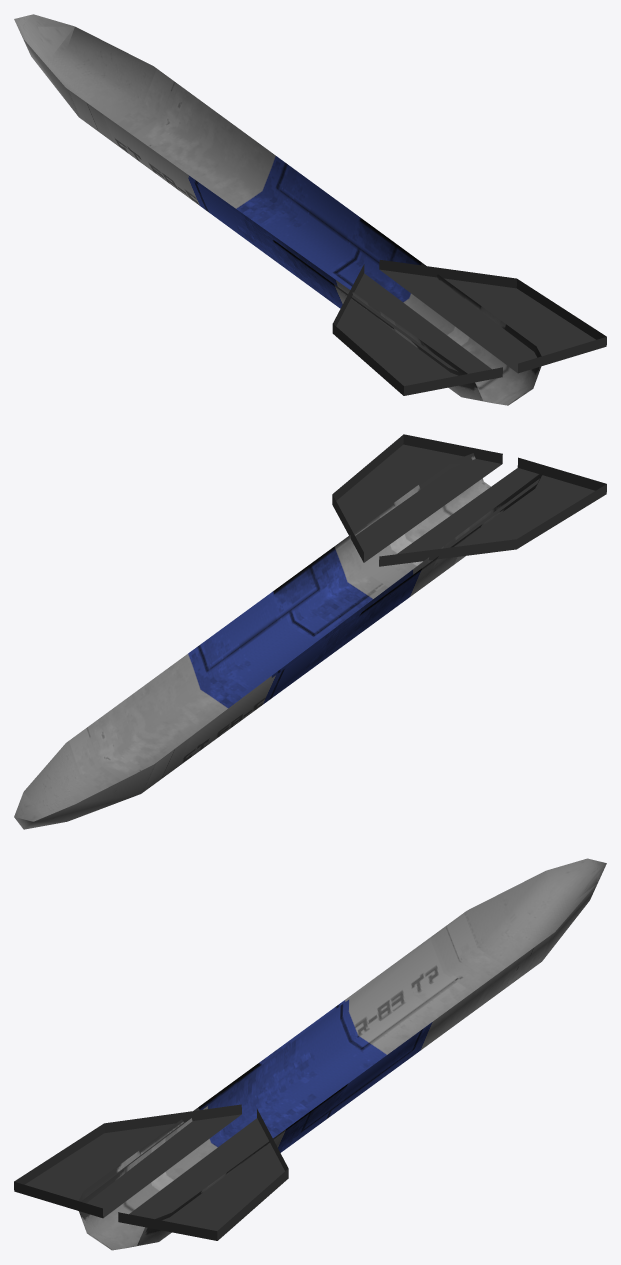
The model's file is AMX.fbx.
The picture shows the model from 3 angles, top to bottom: view 1: azimuth 30°, elevation 25°; view 2: azimuth 150°, elevation 25°; view 3: azimuth 330°, elevation 25°; orthographic projection.
Parts seen in each view (by area): view 1: AMX; view 2: AMX; view 3: AMX.
Boxes of the visible parts, x1,y1,x2,y2 form: AMX: (14, 14, 606, 405); AMX: (14, 434, 606, 829); AMX: (14, 858, 606, 1250).
Size of the model in its own units: 8.4 by 2.1 by 34.87.
1 material, 1 textured.
